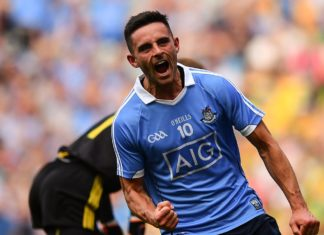player: (110, 20, 284, 234)
